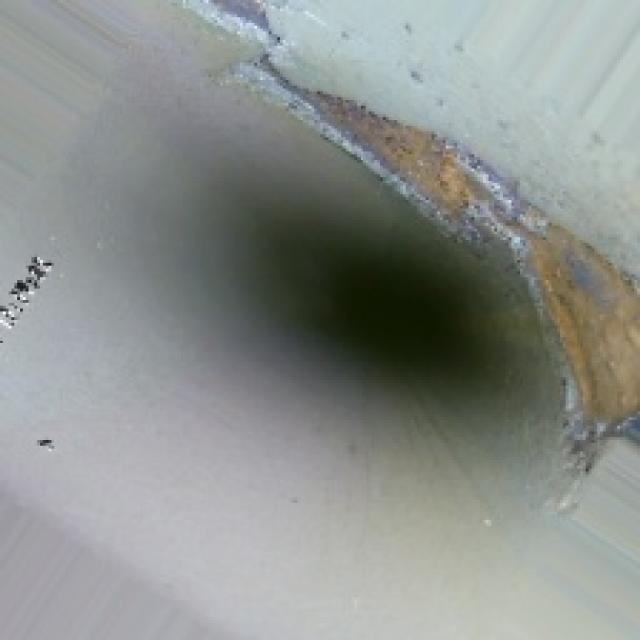pipe_surface_damage: (237, 54, 637, 454)
